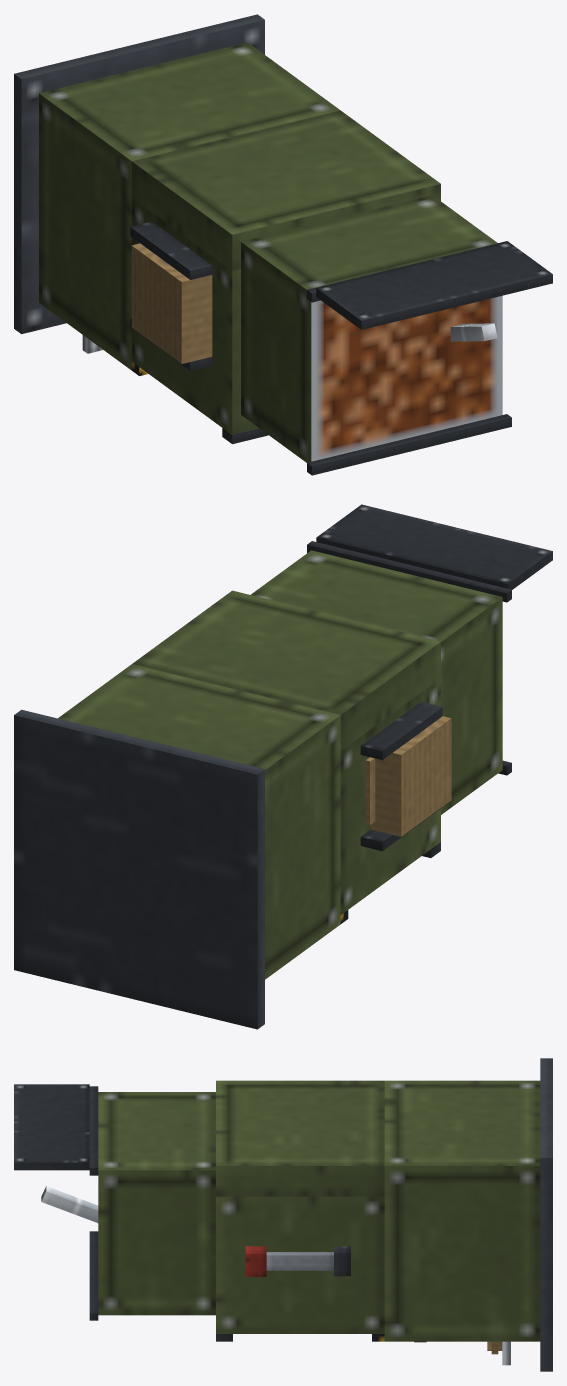
Rendered from mre_maker.obj.
3 views of the same model, one above another, from view 1: azimuth 30°, elevation 25°; view 2: azimuth 150°, elevation 25°; view 3: azimuth 270°, elevation 25° (orthographic). The views are drawn at different scales.
Visible parts, largest first — view 1: mre_maker_Hopper, mre_maker_Cabinet, mre_maker_Bay_back, mre_maker_Base_plate, mre_maker_Lid, mre_maker_Bay_side_R, mre_maker_Film_roll, mre_maker_Hopper_rim, mre_maker_Film_bracket_b, mre_maker_Ladle; view 2: mre_maker_Base_plate, mre_maker_Cabinet, mre_maker_Bay_back, mre_maker_Hopper, mre_maker_Lid, mre_maker_Bay_side_R, mre_maker_Film_roll, mre_maker_Hopper_rim_b, mre_maker_Film_bracket_b, mre_maker_Film_web, mre_maker_Film_bracket_f; view 3: mre_maker_Cabinet, mre_maker_Hopper, mre_maker_Bay_side_L, mre_maker_Bay_back, mre_maker_Lid, mre_maker_Base_plate, mre_maker_Lever_arm, mre_maker_Ladle, mre_maker_Hopper_rim, mre_maker_Hopper_rim_b, mre_maker_Lever_knob, mre_maker_Lever_pivot.
Part boxes in pixels (x1=…): mre_maker_Hopper: x1=241, y1=195, x2=502, y2=462; mre_maker_Cabinet: x1=39, y1=42, x2=340, y2=370; mre_maker_Bay_back: x1=132, y1=110, x2=440, y2=271; mre_maker_Base_plate: x1=14, y1=14, x2=264, y2=334; mre_maker_Lid: x1=316, y1=241, x2=552, y2=329; mre_maker_Bay_side_R: x1=132, y1=198, x2=258, y2=434; mre_maker_Film_roll: x1=131, y1=243, x2=212, y2=363; mre_maker_Hopper_rim: x1=307, y1=414, x2=511, y2=475; mre_maker_Film_bracket_b: x1=130, y1=221, x2=212, y2=279; mre_maker_Ladle: x1=450, y1=323, x2=497, y2=341; mre_maker_Base_plate: x1=14, y1=709, x2=264, y2=1029; mre_maker_Cabinet: x1=58, y1=664, x2=340, y2=979; mre_maker_Bay_back: x1=132, y1=590, x2=440, y2=750; mre_maker_Hopper: x1=251, y1=550, x2=502, y2=814; mre_maker_Lid: x1=316, y1=504, x2=552, y2=589; mre_maker_Bay_side_R: x1=340, y1=678, x2=440, y2=914; mre_maker_Film_roll: x1=370, y1=716, x2=451, y2=836; mre_maker_Hopper_rim_b: x1=307, y1=541, x2=511, y2=602; mre_maker_Film_bracket_b: x1=360, y1=702, x2=442, y2=760; mre_maker_Film_web: x1=365, y1=757, x2=375, y2=824; mre_maker_Film_bracket_f: x1=360, y1=807, x2=442, y2=851; mre_maker_Cabinet: x1=384, y1=1080, x2=540, y2=1341; mre_maker_Hopper: x1=98, y1=1092, x2=215, y2=1315; mre_maker_Bay_side_L: x1=216, y1=1196, x2=384, y2=1333; mre_maker_Bay_back: x1=216, y1=1080, x2=384, y2=1196; mre_maker_Lid: x1=14, y1=1084, x2=89, y2=1170; mre_maker_Base_plate: x1=540, y1=1058, x2=552, y2=1371; mre_maker_Lever_arm: x1=266, y1=1252, x2=333, y2=1270; mre_maker_Ladle: x1=41, y1=1186, x2=98, y2=1222; mre_maker_Hopper_rim: x1=89, y1=1231, x2=98, y2=1320; mre_maker_Hopper_rim_b: x1=89, y1=1086, x2=98, y2=1175; mre_maker_Lever_knob: x1=245, y1=1246, x2=266, y2=1276; mre_maker_Lever_pivot: x1=334, y1=1246, x2=350, y2=1276.
Bounding box in the file's own units: 0.9281 × 0.9219 × 2.
